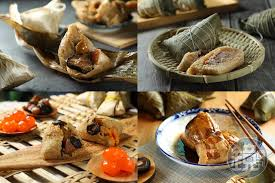zongzi: (42, 115, 121, 159), (180, 112, 238, 164), (58, 25, 114, 75), (162, 13, 221, 60), (187, 46, 243, 73)
